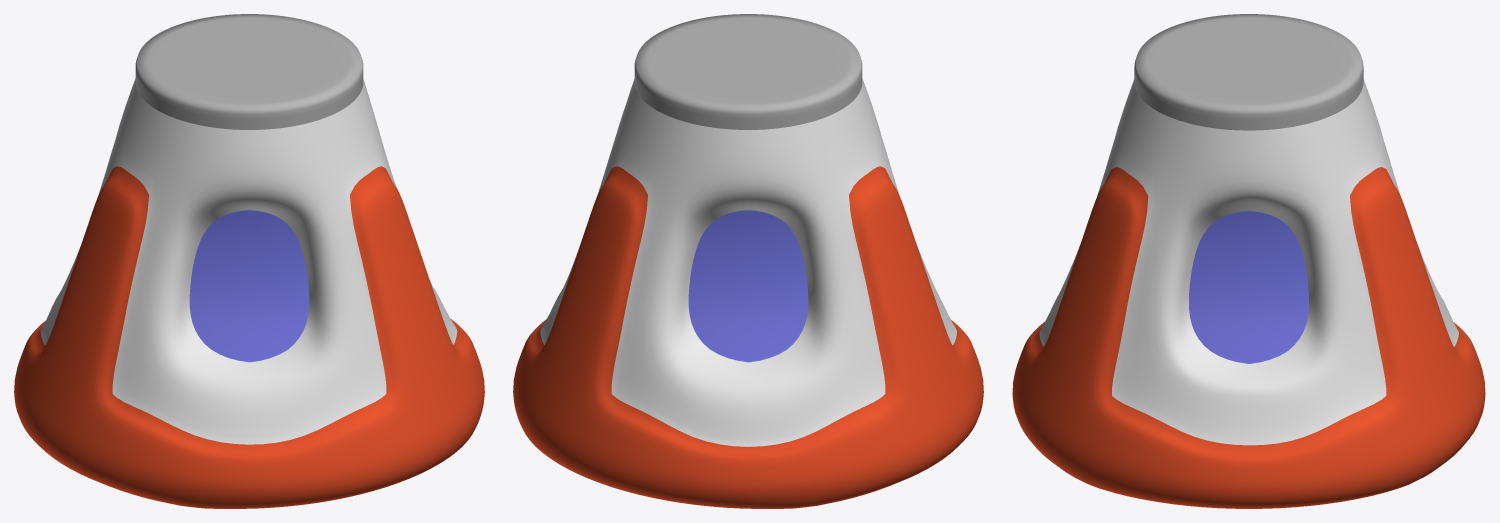
The model's file is crewModule.glb.
The picture shows the model from 3 angles, left to right: view 1: azimuth 30°, elevation 25°; view 2: azimuth 150°, elevation 25°; view 3: azimuth 270°, elevation 25°; orthographic projection.
Visible parts, largest first — view 1: Cylinder.001, Cylinder.003, Cylinder.002; view 2: Cylinder.001, Cylinder.003, Cylinder.002; view 3: Cylinder.001, Cylinder.003, Cylinder.002.
Part boxes in pixels (bbox=[...]): Cylinder.001: bbox=[14, 78, 484, 508]; Cylinder.003: bbox=[135, 14, 363, 129]; Cylinder.002: bbox=[189, 210, 309, 362]; Cylinder.001: bbox=[513, 78, 983, 508]; Cylinder.003: bbox=[634, 14, 862, 129]; Cylinder.002: bbox=[688, 210, 808, 362]; Cylinder.001: bbox=[1012, 79, 1485, 508]; Cylinder.003: bbox=[1134, 14, 1363, 130]; Cylinder.002: bbox=[1189, 211, 1308, 363].
Size of the model in its own units: 2.04 by 1.71 by 2.04.
